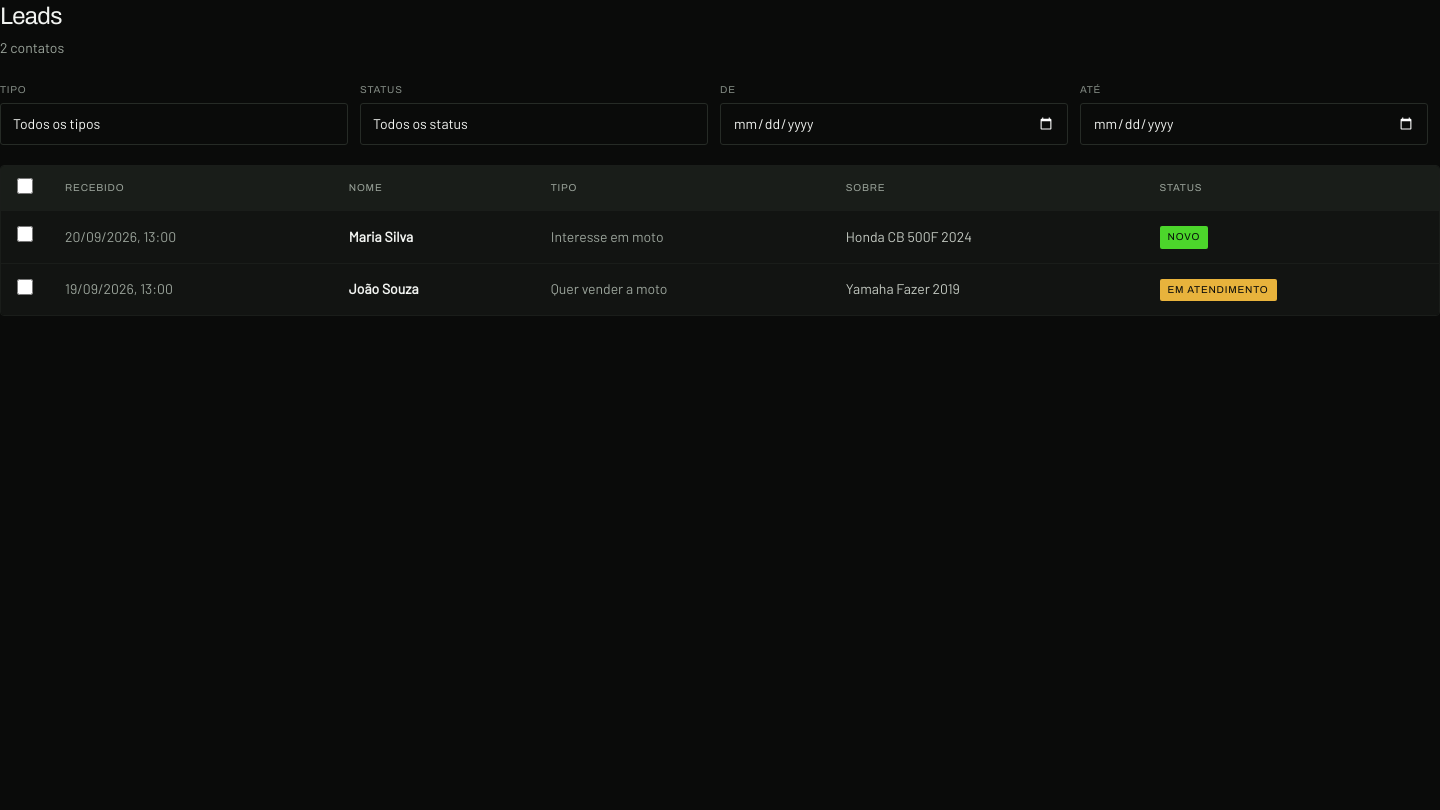
Test: tela de leads › dono exclui um lead pelo detalhe, depois de confirmar
This screenshot has width=1440, height=810.
Click the button "Maria Silva".
click(381, 237)  # box [349,227,413,247]
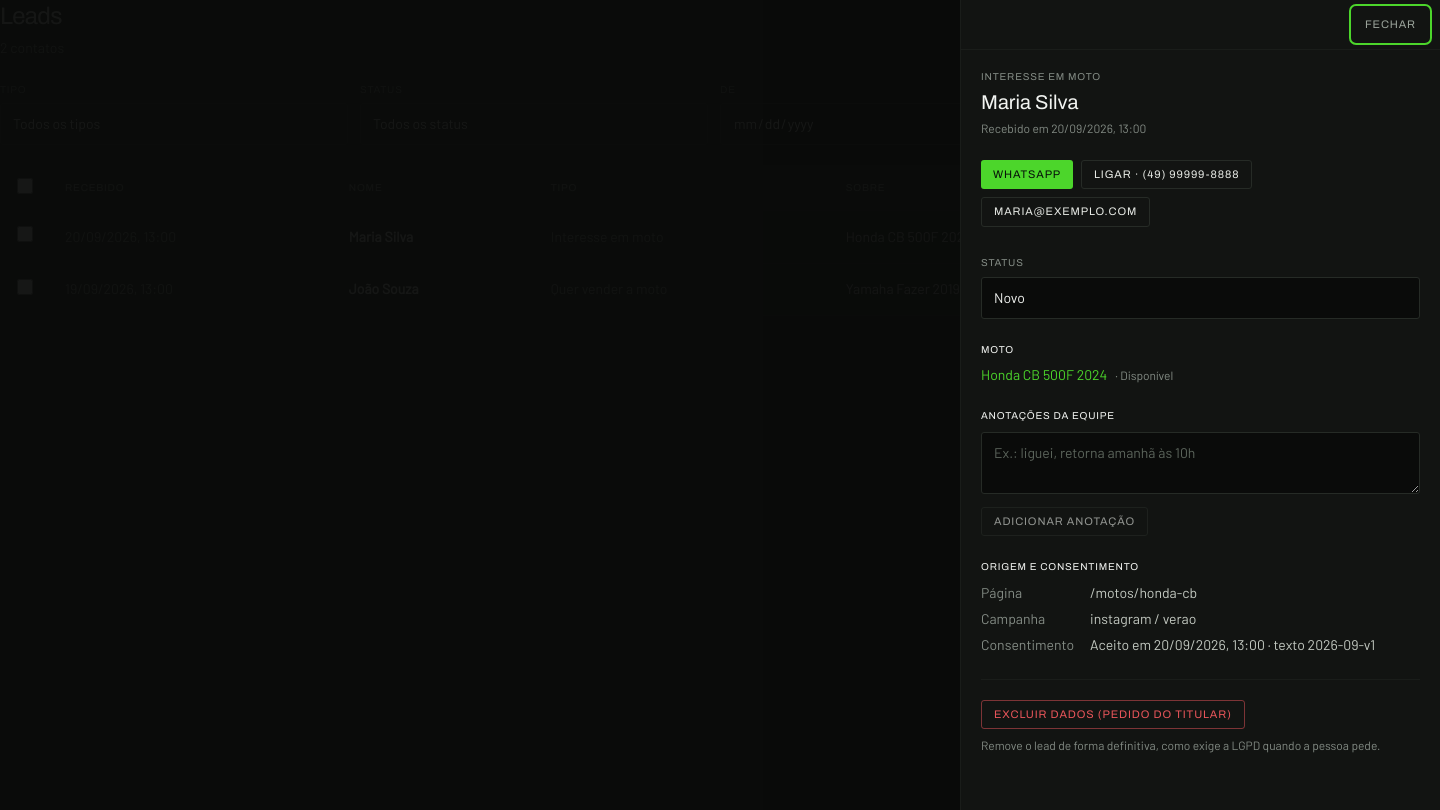
Click the button "Excluir dados (pedido do titular)".
click(1113, 715)  # box [981,700,1245,729]
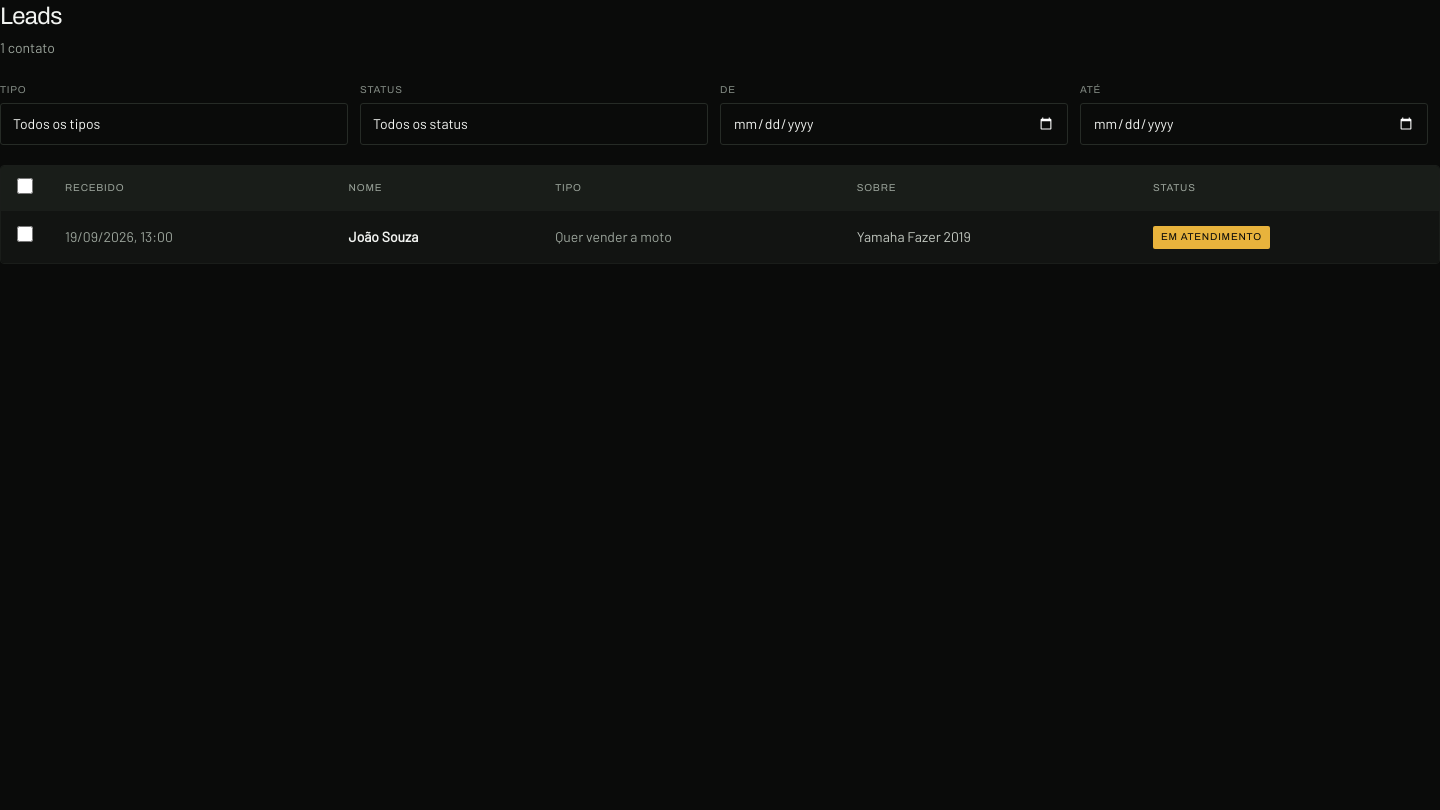
Result: the button "Maria Silva" is gone
Result: the text "1 contato" is shown at [0,38,62,58]
